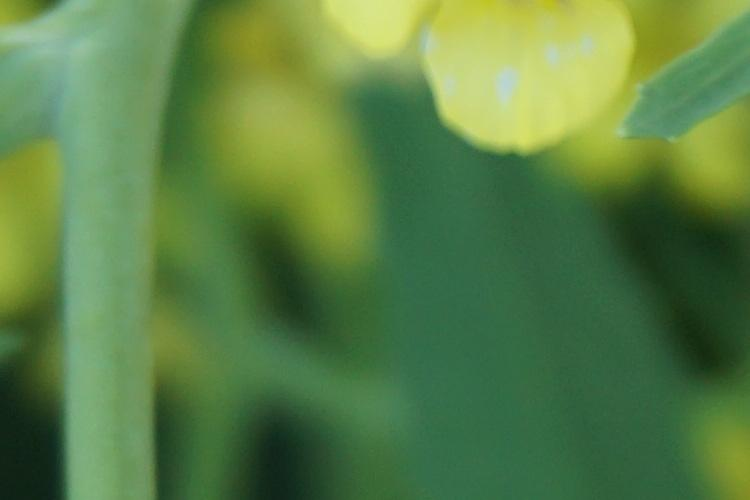yellow: (325, 2, 642, 166)
